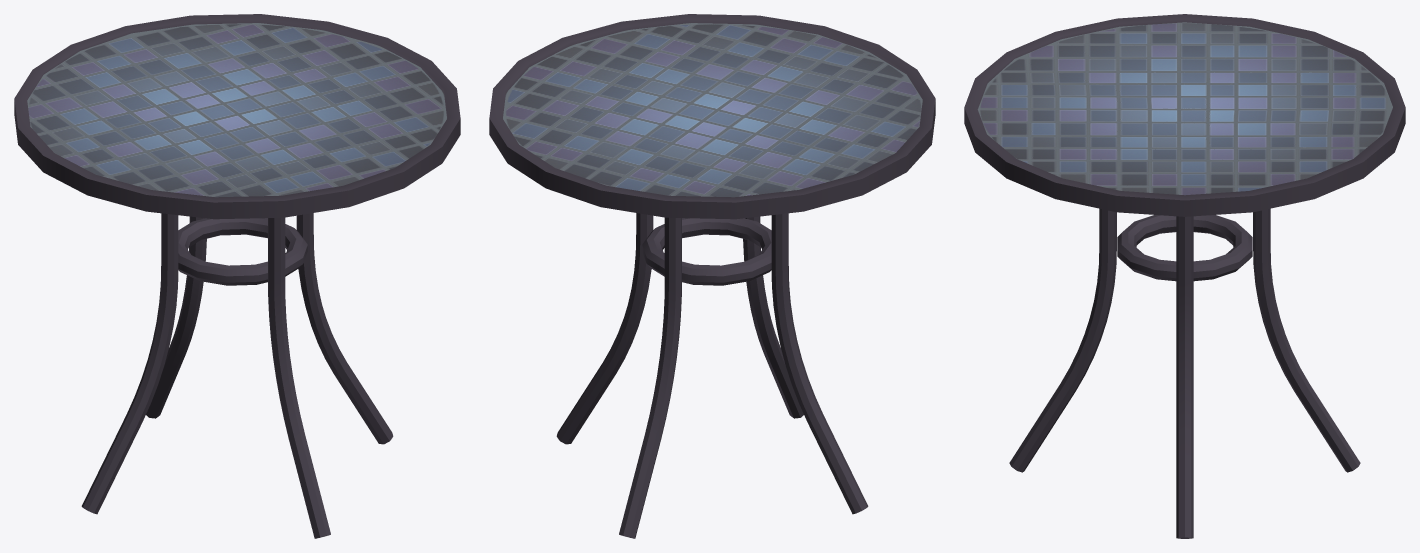
The model's file is mosaic-garden-table-by-rose-peng-4gsYOYy3v93.glb.
3 views of the same model, side by side, from view 1: azimuth 30°, elevation 25°; view 2: azimuth 150°, elevation 25°; view 3: azimuth 270°, elevation 25° (orthographic).
Visible parts, largest first — view 1: TableTop, Leg, Leg3, Torus, Leg1, Leg2; view 2: TableTop, Leg2, Leg3, Torus, Leg1, Leg; view 3: TableTop, Leg1, Leg, Leg2, Torus.
Part boxes in pixels (<box>): TableTop: <box>14,14,460,219</box>; Leg: <box>268,217,330,538</box>; Leg3: <box>81,213,178,514</box>; Torus: <box>178,218,307,285</box>; Leg1: <box>296,213,393,444</box>; Leg2: <box>146,216,206,418</box>; TableTop: <box>489,14,935,219</box>; Leg2: <box>619,217,681,538</box>; Leg3: <box>771,213,868,514</box>; Torus: <box>642,218,771,285</box>; Leg1: <box>556,213,653,444</box>; Leg: <box>743,216,803,418</box>; TableTop: <box>964,14,1405,216</box>; Leg1: <box>1176,216,1193,538</box>; Leg: <box>1009,208,1116,472</box>; Leg2: <box>1253,208,1360,472</box>; Torus: <box>1117,215,1252,281</box>.
Bounding box in the file's own units: 2 × 1.82 × 2.
2 materials, 1 textured.
